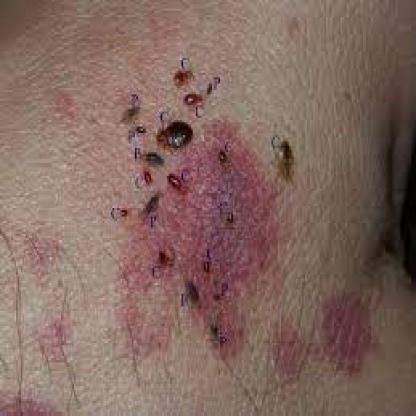Bed Bug: (116, 111, 304, 394), (307, 286, 372, 378), (24, 236, 64, 283), (38, 313, 80, 356), (0, 388, 69, 414), (48, 86, 82, 122)
